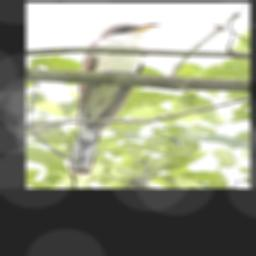Cuckoo: (68, 22, 162, 175)
